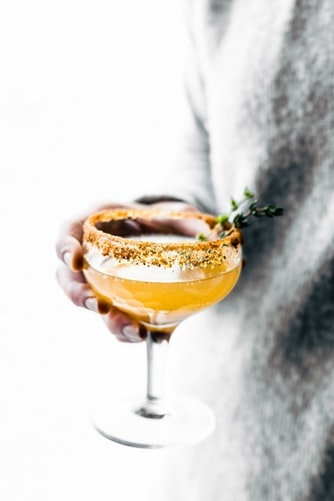whiskey: (85, 205, 243, 457)
